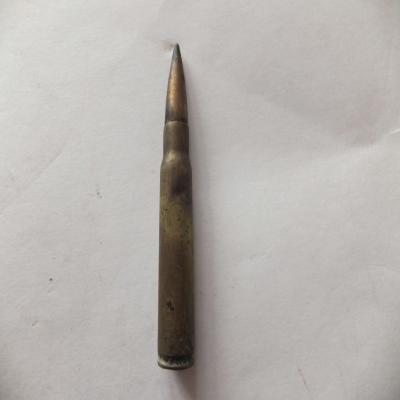weapon: (157, 44, 196, 372)
